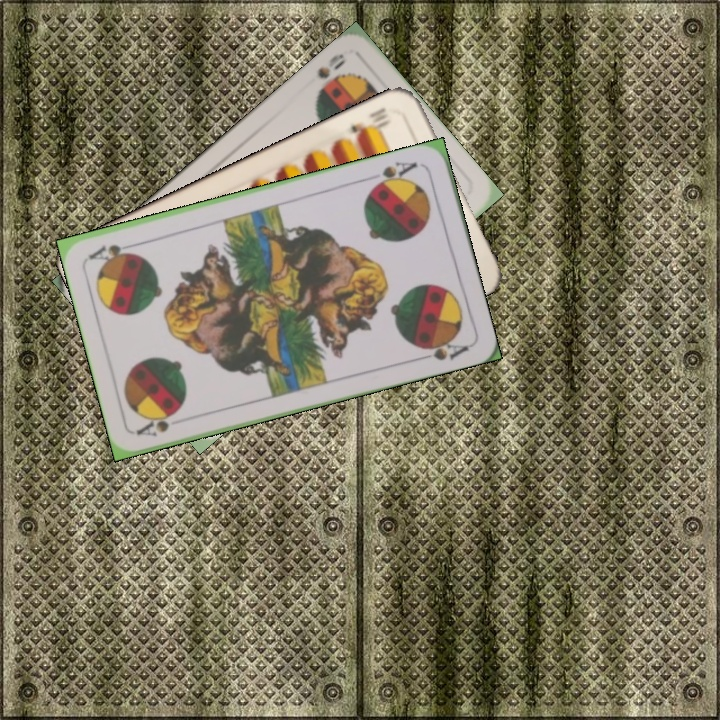E10: (347, 103, 393, 142)
SA: (368, 157, 420, 191), (132, 407, 182, 440)
SO: (310, 49, 349, 100)
